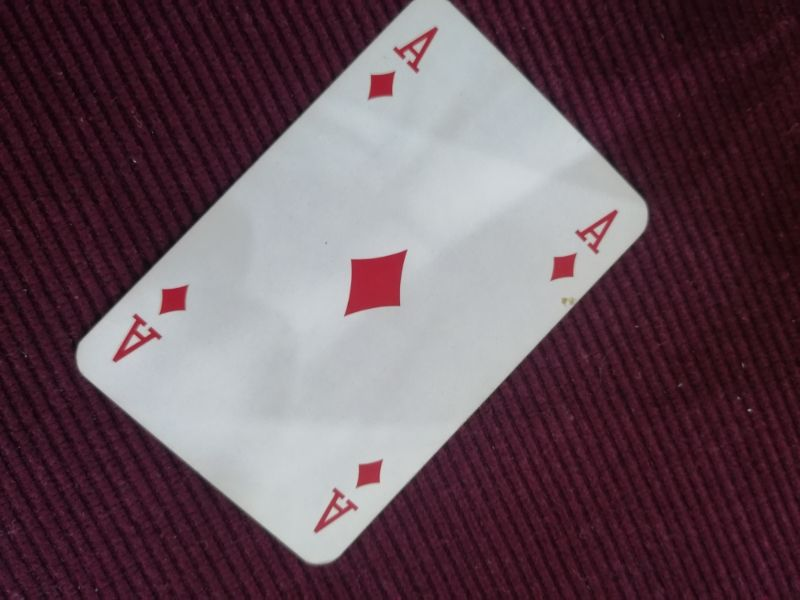Ad: (543, 201, 627, 295), (106, 280, 193, 368), (307, 455, 390, 541), (365, 22, 443, 103)
